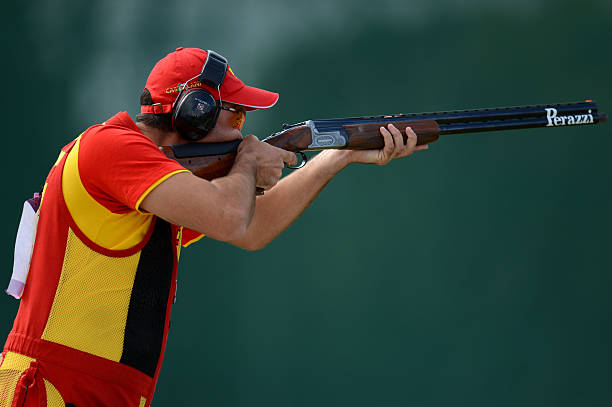shotgun: (172, 98, 607, 178)
